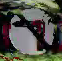Don't turn left: (5, 11, 55, 59)
